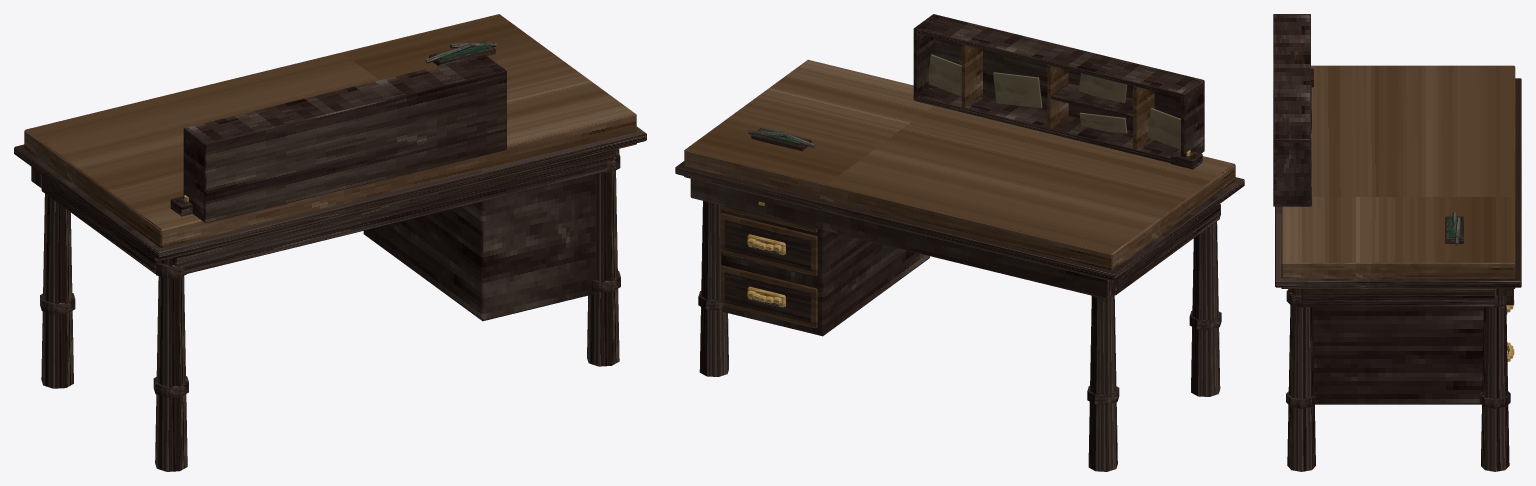
The model's file is desk_static.glb.
3 renders of one model, left to right at view 1: azimuth 30°, elevation 25°; view 2: azimuth 150°, elevation 25°; view 3: azimuth 270°, elevation 25°, orthographic. The views are drawn at different scales.
Visible parts, largest first — view 1: desk_static; view 2: desk_static; view 3: desk_static.
Boxes of the visible parts, x1,y1,x2,y2 form: desk_static: [14, 14, 646, 471]; desk_static: [675, 14, 1244, 471]; desk_static: [1273, 14, 1521, 471].
Size of the model in its own units: 1.54 by 0.99 by 0.796.
6 materials, 6 textured.
